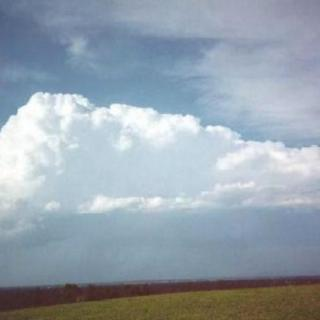Cumulus: (0, 78, 320, 276)
